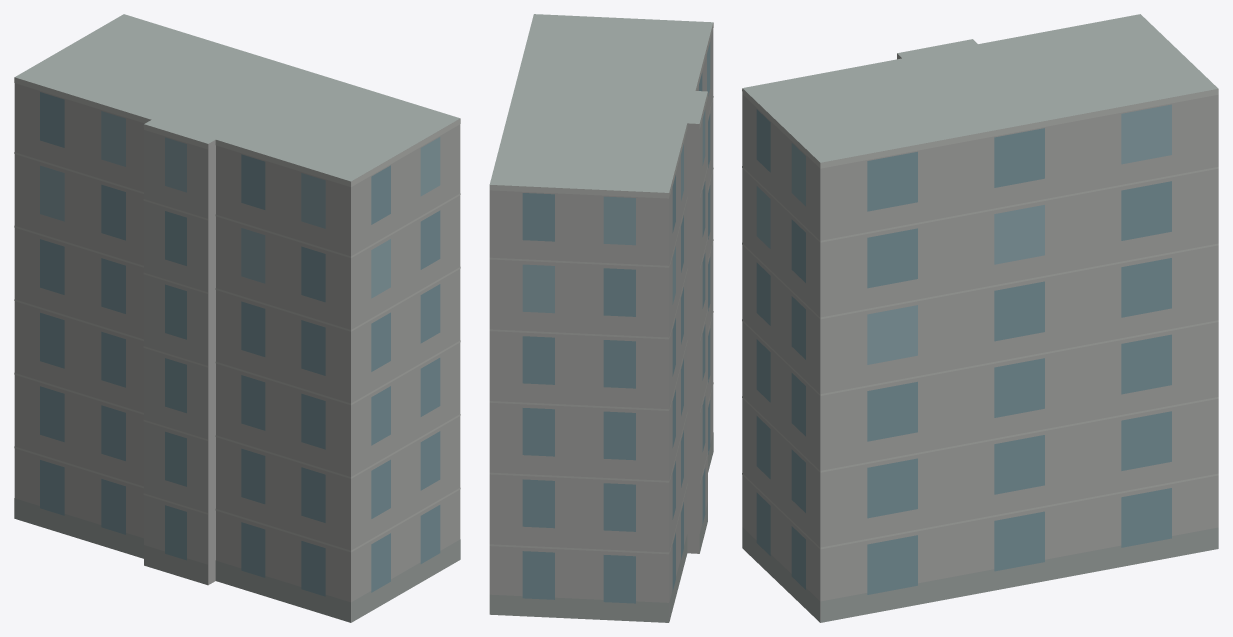
File: survey-upis-32973593.glb
The picture shows the model from 3 angles, left to right: view 1: azimuth 30°, elevation 25°; view 2: azimuth 150°, elevation 25°; view 3: azimuth 270°, elevation 25°; orthographic projection. The views are drawn at different scales.
Parts seen in each view (by area): view 1: survey-upis-32973593.tmp; view 2: survey-upis-32973593.tmp; view 3: survey-upis-32973593.tmp.
Part boxes in pixels (<box>): survey-upis-32973593.tmp: <box>14,14,460,622</box>; survey-upis-32973593.tmp: <box>489,14,713,622</box>; survey-upis-32973593.tmp: <box>742,14,1218,622</box>.
Bounding box in the file's own units: 13.06 × 18.8 × 17.66.
